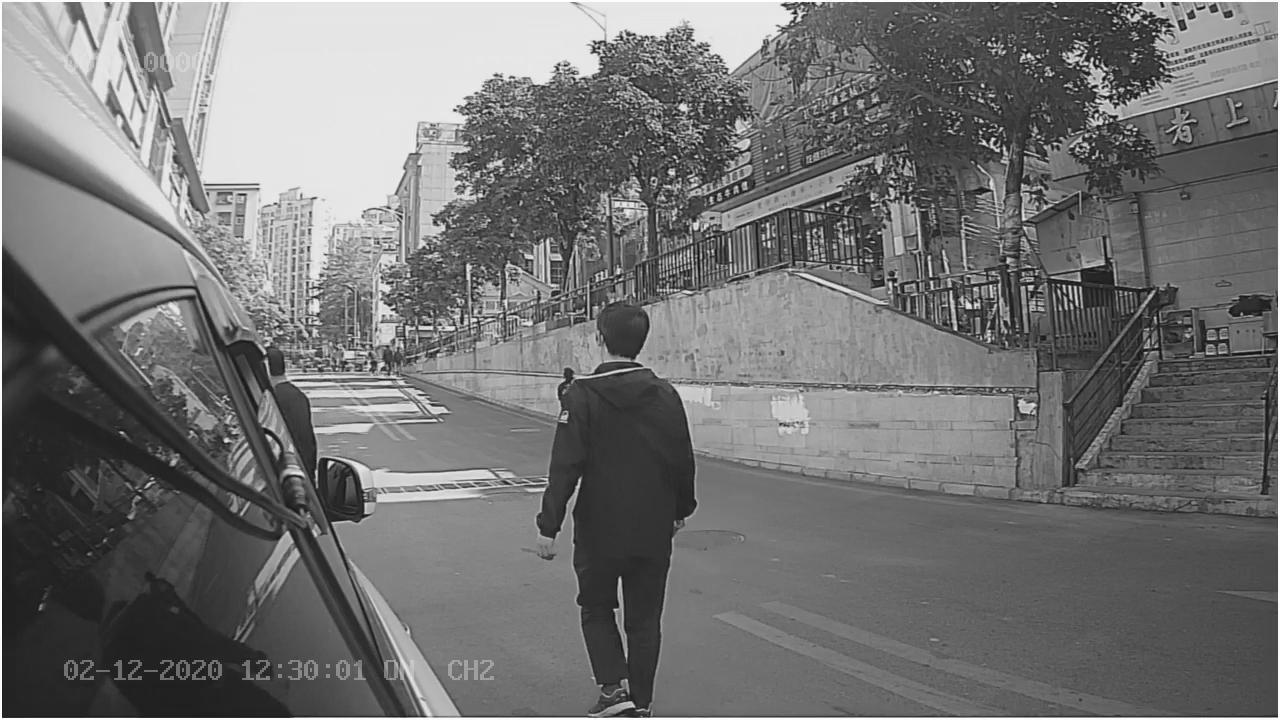person: (529, 294, 707, 567)
